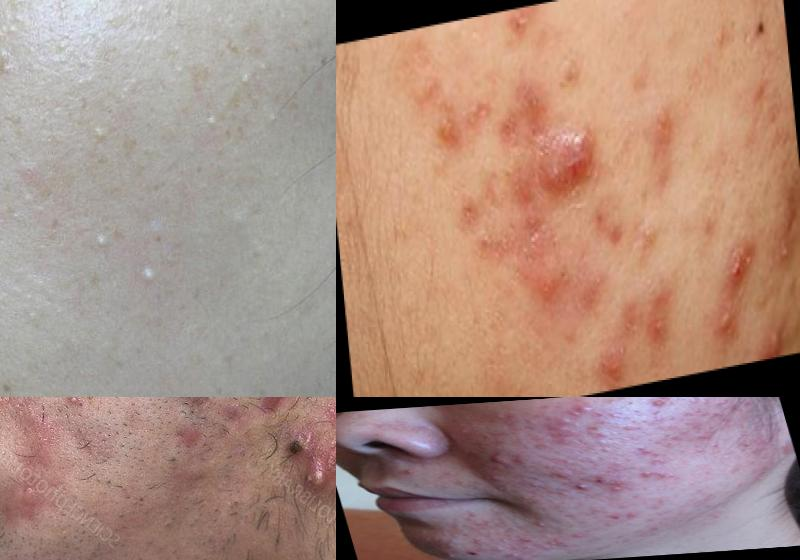acne_scars: (255, 398, 297, 422)
blackhead: (551, 253, 580, 304), (319, 398, 337, 431)
cystic: (283, 421, 337, 521), (484, 449, 514, 472)
milium: (215, 48, 292, 130), (1, 1, 45, 87), (73, 117, 122, 167), (130, 252, 171, 299), (85, 223, 120, 257)
papular: (545, 418, 587, 446), (636, 398, 682, 414), (682, 421, 715, 442), (636, 444, 670, 463), (565, 479, 597, 495), (606, 510, 644, 522), (514, 536, 543, 551), (569, 403, 595, 419), (462, 517, 494, 530), (585, 423, 611, 439), (548, 488, 576, 500), (593, 440, 618, 453), (526, 479, 551, 492), (607, 459, 629, 470), (623, 423, 642, 434)
purulent: (757, 319, 797, 360), (774, 235, 798, 284), (387, 464, 430, 482), (486, 481, 523, 497), (519, 518, 557, 533), (547, 468, 576, 485), (497, 550, 533, 560), (465, 537, 491, 549), (436, 551, 464, 560)
sebo-crystan-conglo: (533, 111, 614, 201), (589, 473, 630, 497), (537, 537, 581, 555), (637, 466, 674, 483)
